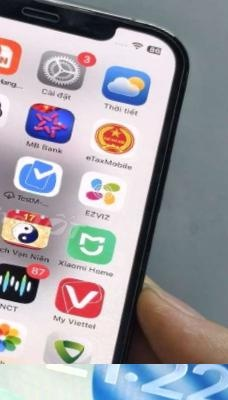scratch: (0, 364, 228, 400)
